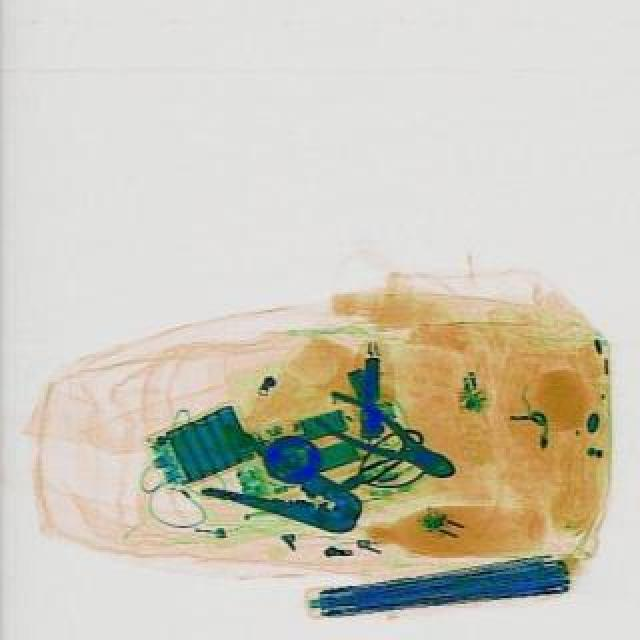pliers: (310, 420, 440, 520)
wrench: (196, 426, 372, 554), (306, 384, 462, 492)
